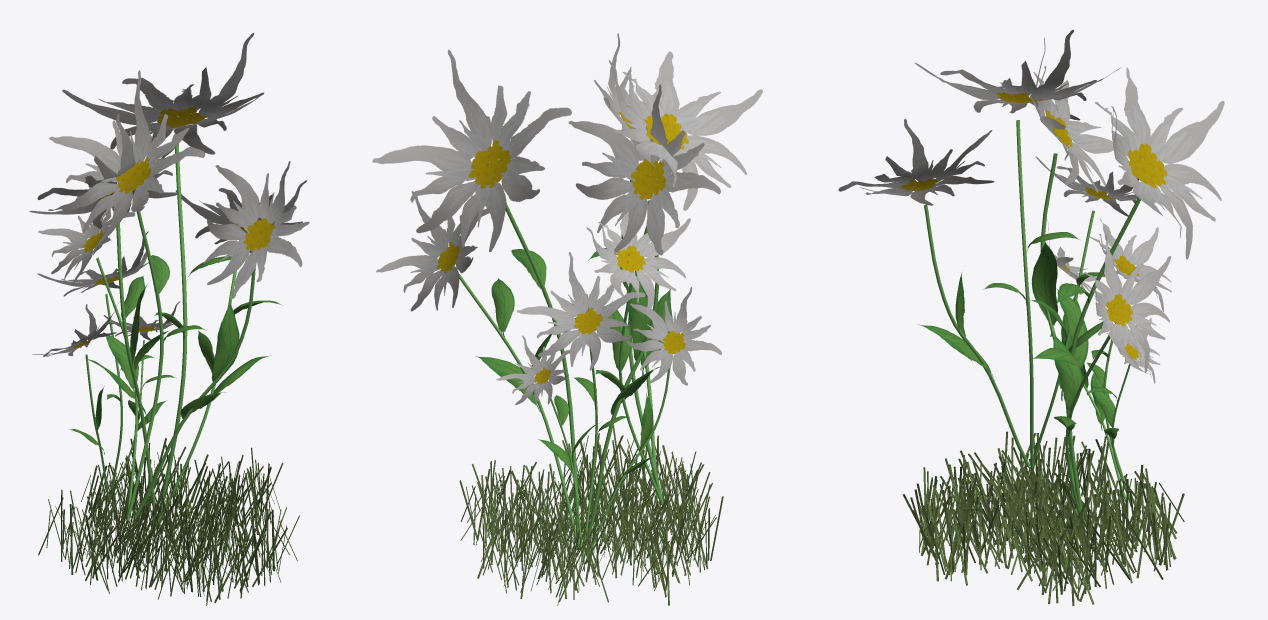
The model's file is edelweiss_grass_bigger.glb.
The picture shows the model from 3 angles, left to right: view 1: azimuth 30°, elevation 25°; view 2: azimuth 150°, elevation 25°; view 3: azimuth 270°, elevation 25°; orthographic projection. The views are drawn at different scales.
Visible parts, largest first — view 1: edelweiss (×3); view 2: edelweiss (×3); view 3: edelweiss (×3).
Boxes of the visible parts, x1,y1,x2,y2 form: edelweiss (×3): [29, 33, 309, 527]; edelweiss (×3): [372, 33, 762, 559]; edelweiss (×3): [838, 29, 1224, 532].
Bounding box in the file's own units: 1.53 × 2.31 × 1.69.
Materials: 5 (4 with a texture image).
